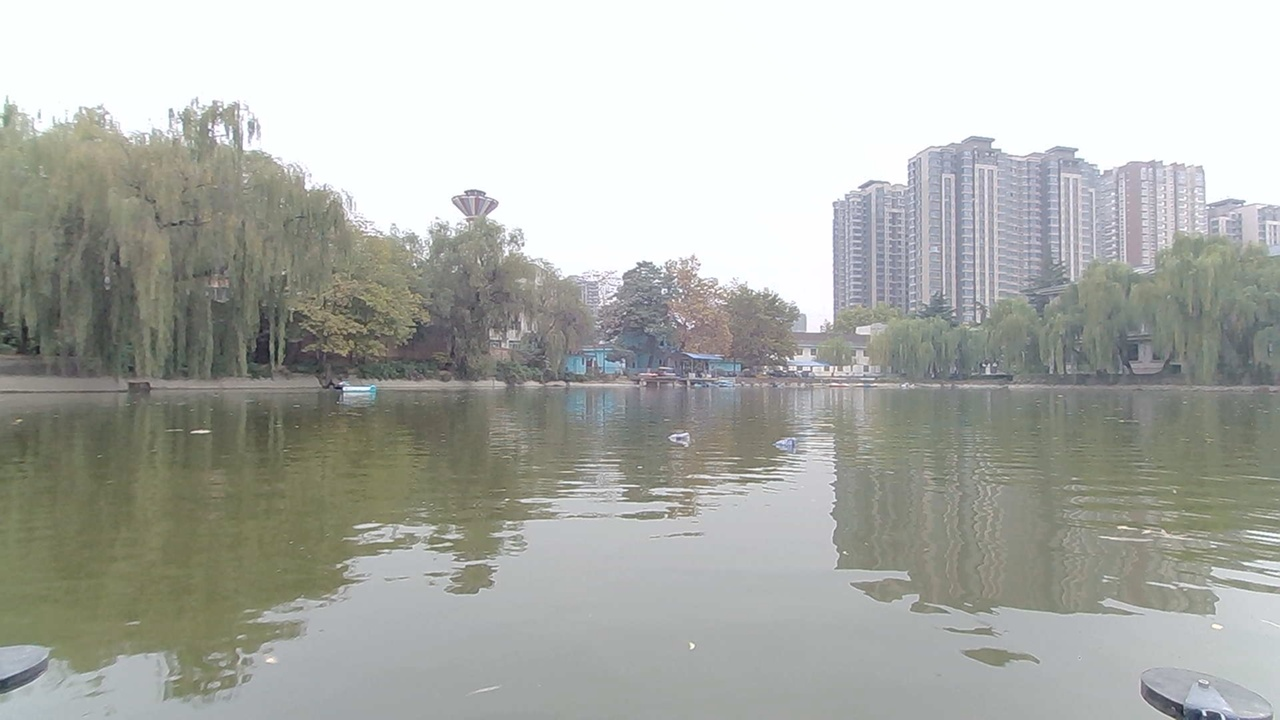bottle: (659, 418, 698, 444), (775, 436, 808, 453)
